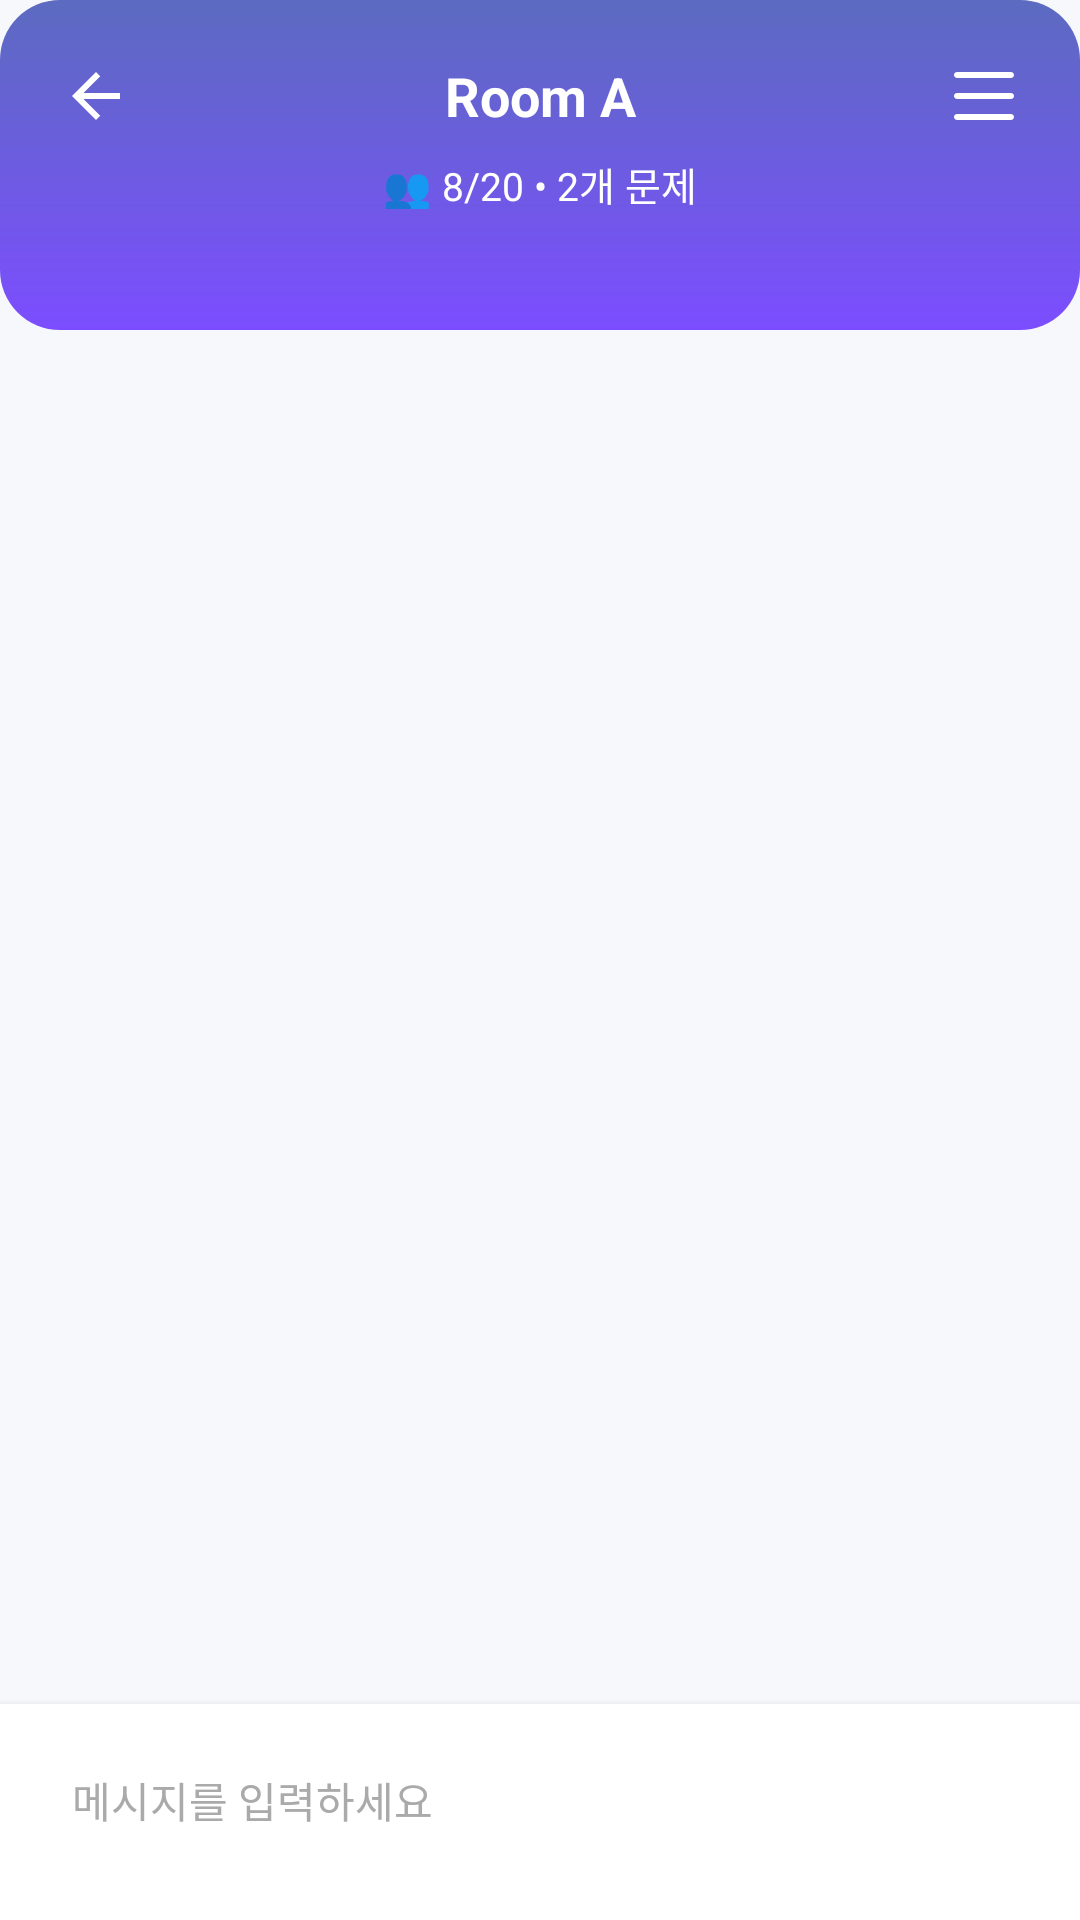

Icons on this 1080×1920 Android screen, each with its box as region(x1, y1, x2, y2):
menu: region(936, 72, 1032, 144)
